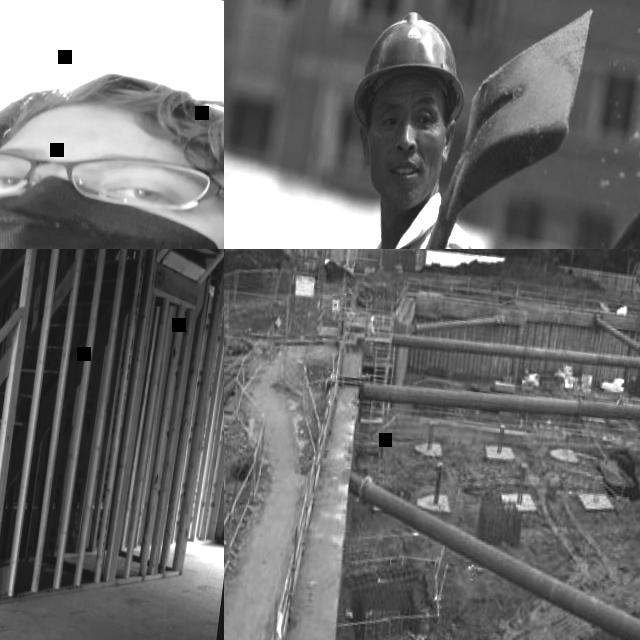Hardhat: (348, 6, 475, 134), (370, 315, 374, 320)
Mask: (0, 164, 224, 249)
NO-Hardhat: (0, 57, 224, 185)
NO-Mask: (367, 151, 437, 210)
Person: (303, 1, 549, 249), (0, 37, 224, 249)
Safety Vest: (362, 314, 378, 361), (365, 321, 373, 337)
machinery: (503, 618, 630, 640)
